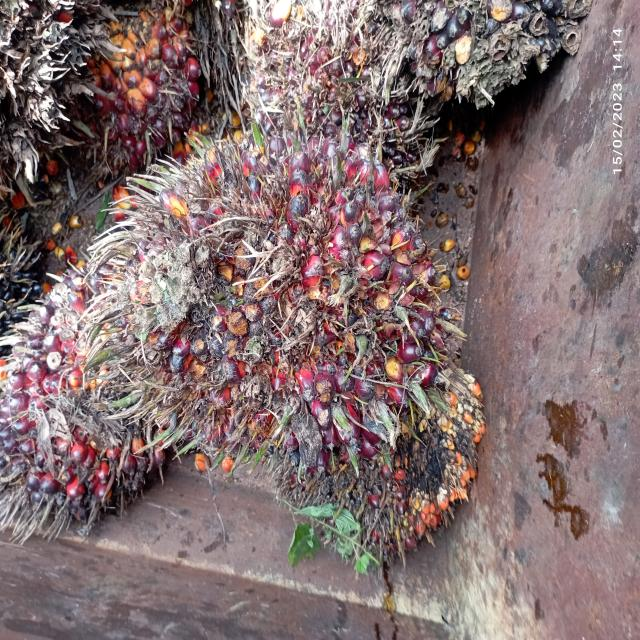fraksi 1: (109, 101, 479, 505), (0, 223, 140, 574)
